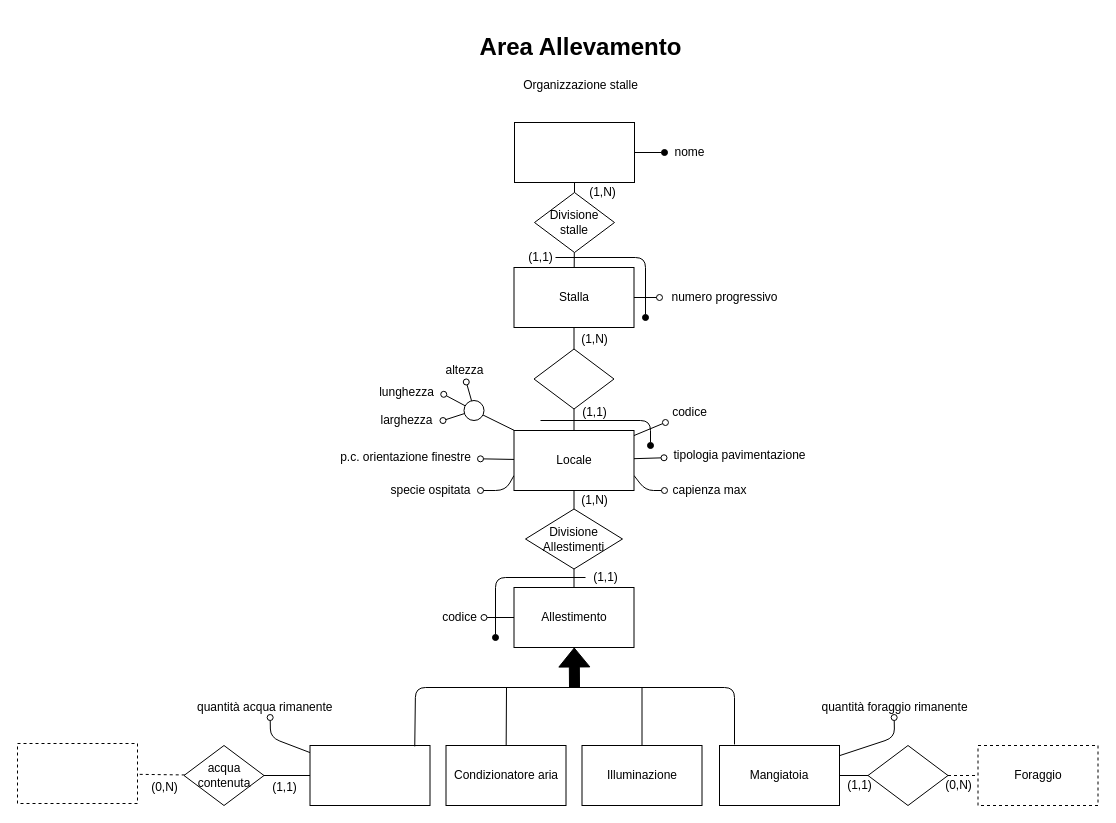
This 1116x823 diagram has some shape labels left out. The box of each missing label's shape, as (x1, y1, x2, y2) in pixels:
Abbeveratoio: (309, 744, 430, 806)
Acqua: (16, 742, 138, 804)
Agriturismo: (514, 122, 634, 182)
Divisione locali: (533, 348, 614, 409)
foraggio contenuto: (867, 744, 948, 806)
